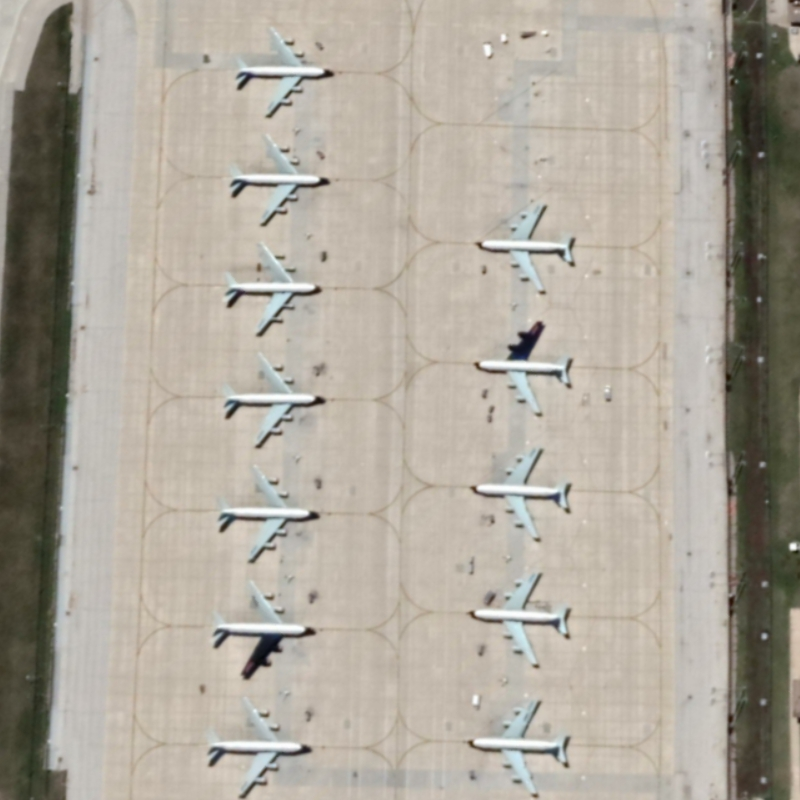A11: (464, 561, 579, 673), (203, 572, 319, 683), (201, 689, 317, 800), (210, 458, 321, 572), (465, 193, 582, 300), (217, 344, 329, 454), (220, 127, 333, 234), (466, 315, 579, 422), (465, 441, 574, 550), (461, 692, 571, 800), (215, 239, 327, 344), (226, 18, 337, 122)
